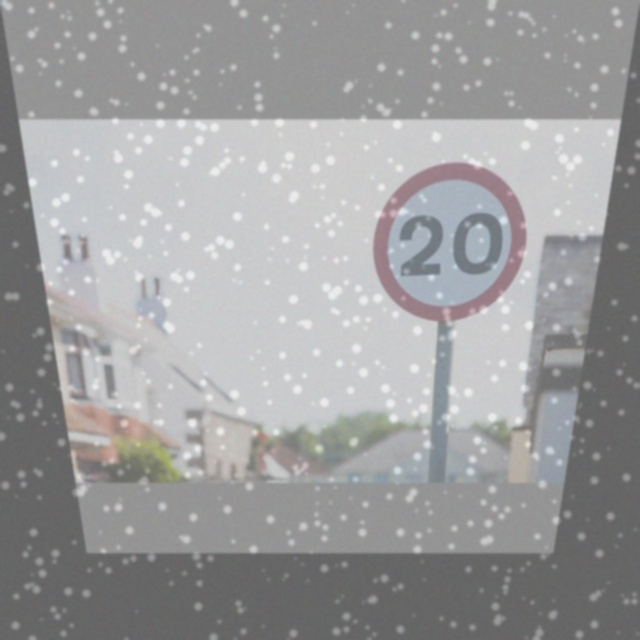Speed_Limit_20: (373, 165, 530, 319)
